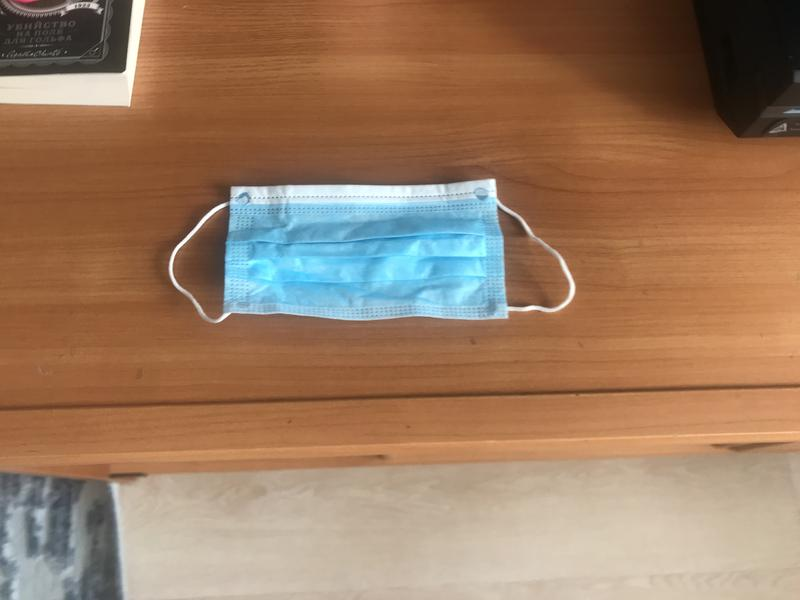medical_mask: (166, 184, 574, 319)
